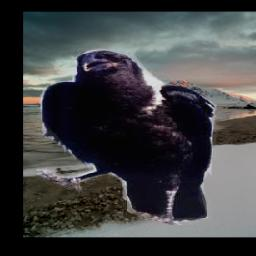Crow: (38, 49, 218, 225)
